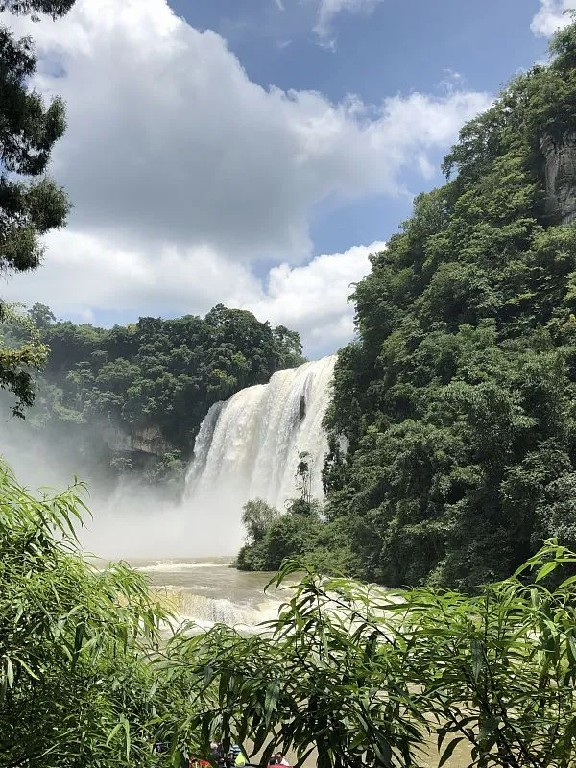Huangguoshu: (179, 357, 341, 556)
